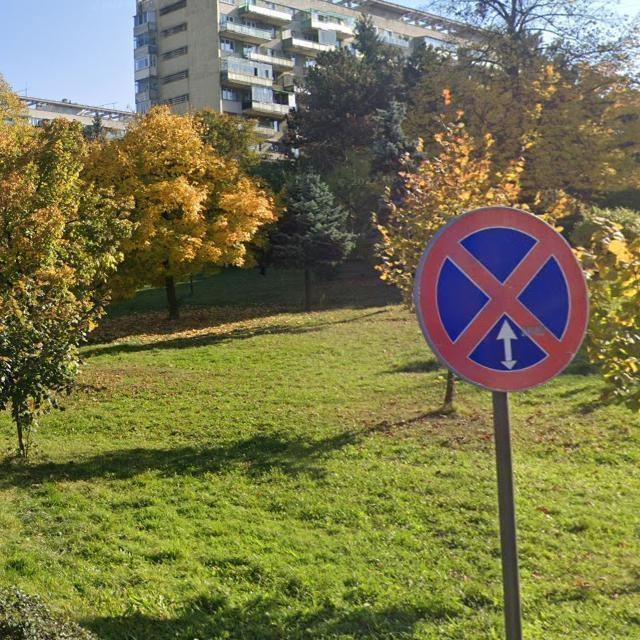forb_waiting: (417, 208, 589, 394)
